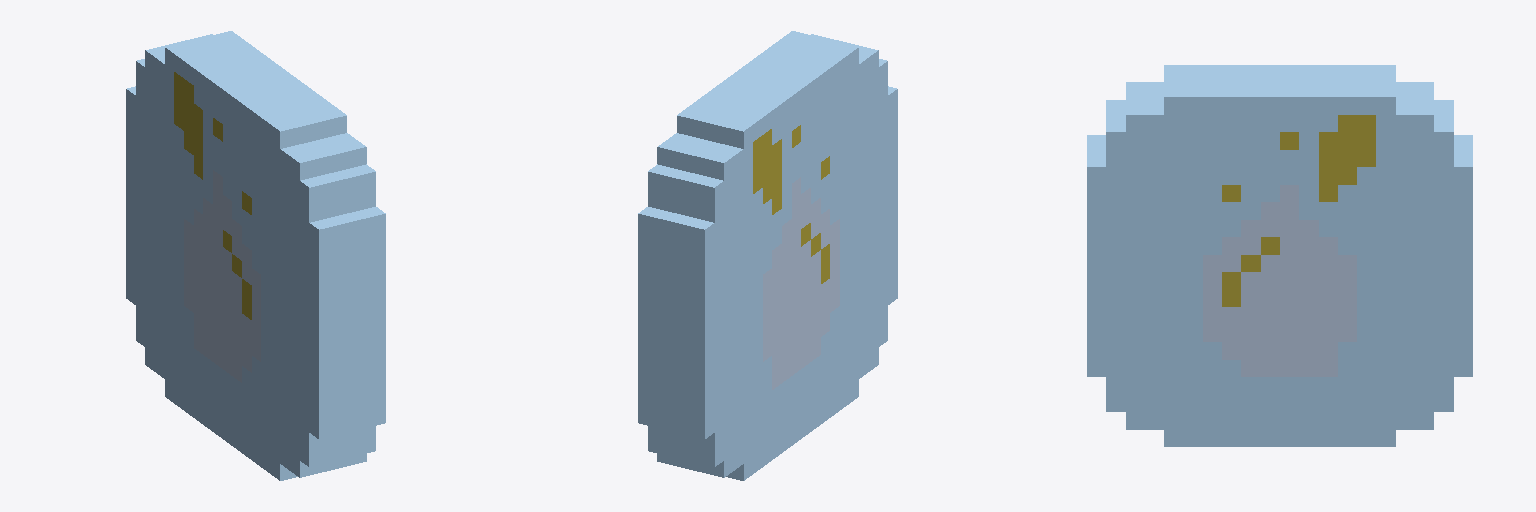
3 renders of one model, left to right at view 1: azimuth 30°, elevation 25°; view 2: azimuth 150°, elevation 25°; view 3: azimuth 270°, elevation 25°, orthographic.
Bounding box in the file's own units: 4 × 20 × 20.
Materials: 1 (1 with a texture image).